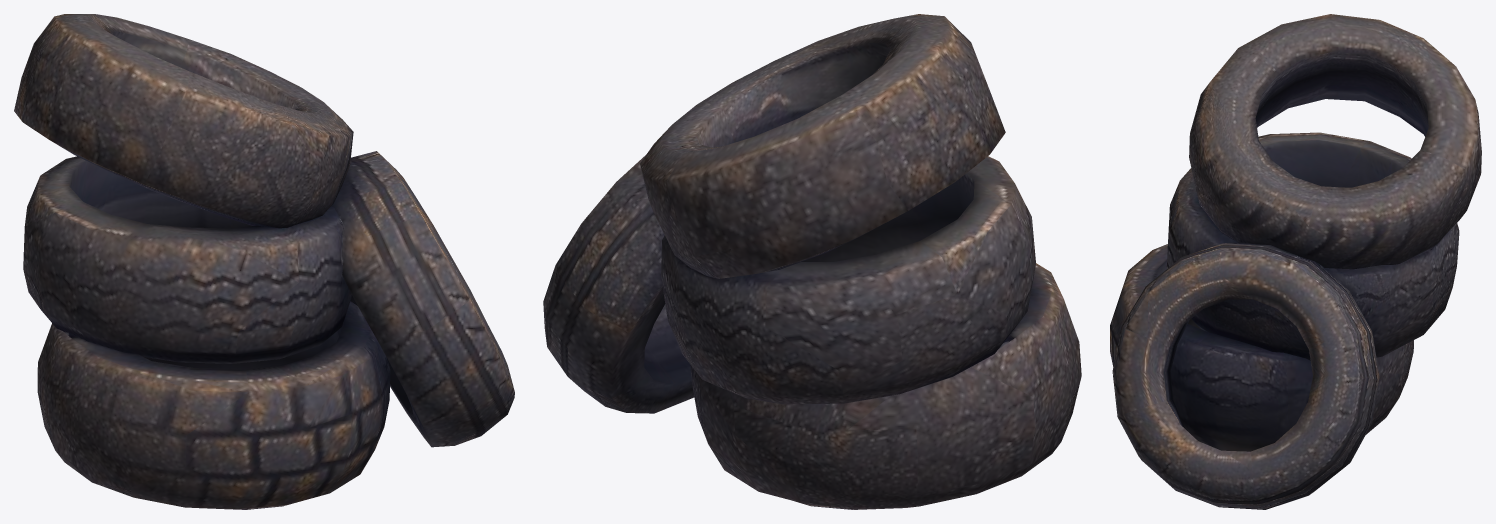
Rendered from tire+stack+3d+model.glb.
3 renders of one model, left to right at view 1: azimuth 30°, elevation 25°; view 2: azimuth 150°, elevation 25°; view 3: azimuth 270°, elevation 25°, orthographic. The views are drawn at different scales.
Parts seen in each view (by area): view 1: tripo_node_c769b64f-eb41-46fc-a099-a3a033ccab3e; view 2: tripo_node_c769b64f-eb41-46fc-a099-a3a033ccab3e; view 3: tripo_node_c769b64f-eb41-46fc-a099-a3a033ccab3e.
Boxes of the visible parts, left/top/right/bottom form: tripo_node_c769b64f-eb41-46fc-a099-a3a033ccab3e: left=14, top=14, right=514, bottom=509; tripo_node_c769b64f-eb41-46fc-a099-a3a033ccab3e: left=543, top=14, right=1081, bottom=509; tripo_node_c769b64f-eb41-46fc-a099-a3a033ccab3e: left=1110, top=14, right=1481, bottom=509.
Bounding box in the file's own units: 0.998 × 0.9473 × 0.873.
1 material, 1 textured.
